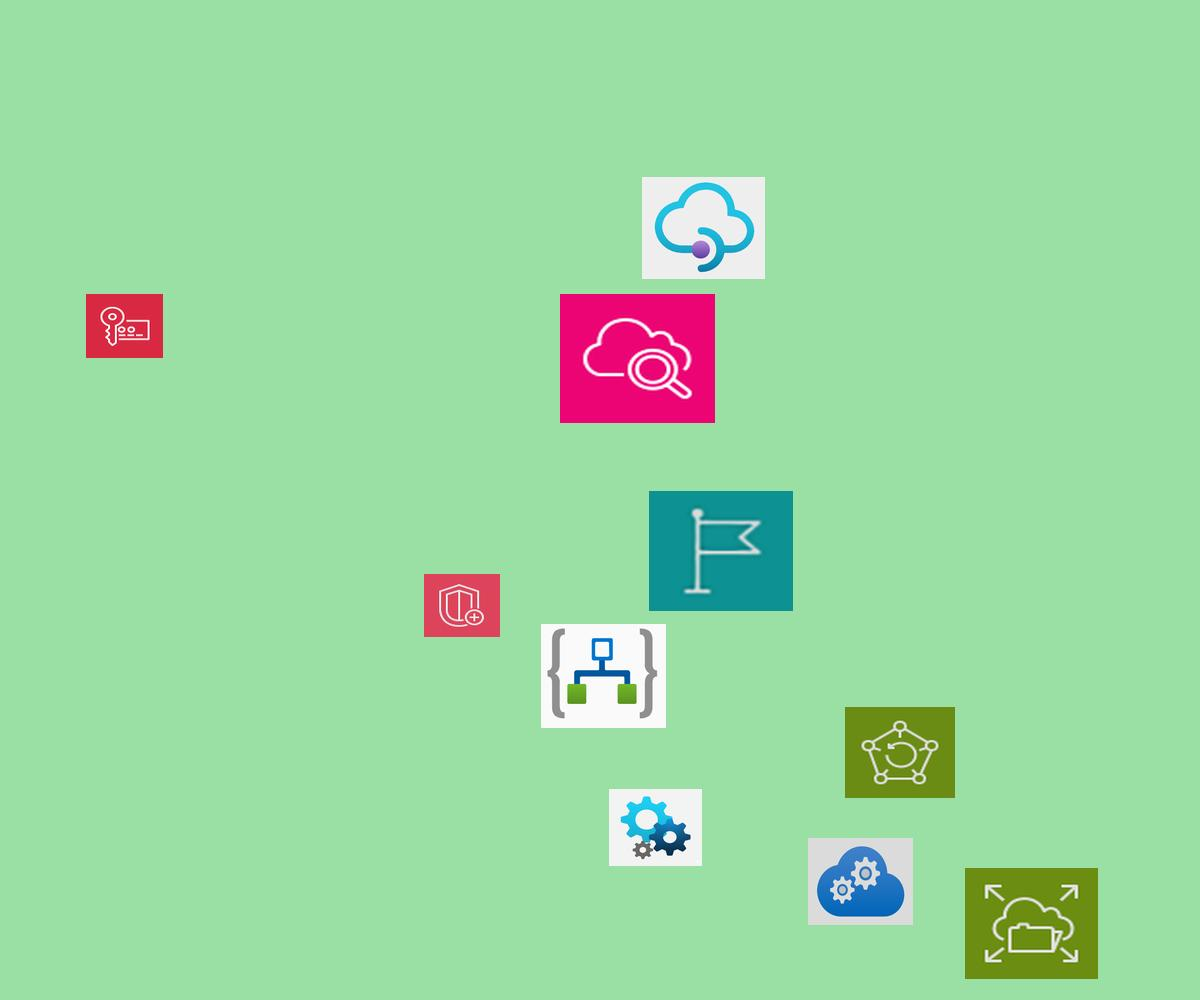AWS-Backup: (845, 707, 955, 798)
AWS-CloudWatch: (560, 294, 715, 423)
AWS-EFS: (965, 868, 1098, 979)
AWS-Key-Management-Service: (86, 294, 163, 358)
AWS-Region: (649, 491, 793, 611)
AWS-Shield: (424, 574, 500, 637)
Azure_api: (609, 789, 702, 866)
Azure_api_gateway: (642, 177, 765, 279)
Azure_cloud_services: (808, 838, 913, 925)
Azure_integration-204-Logic-Apps: (541, 624, 666, 728)
